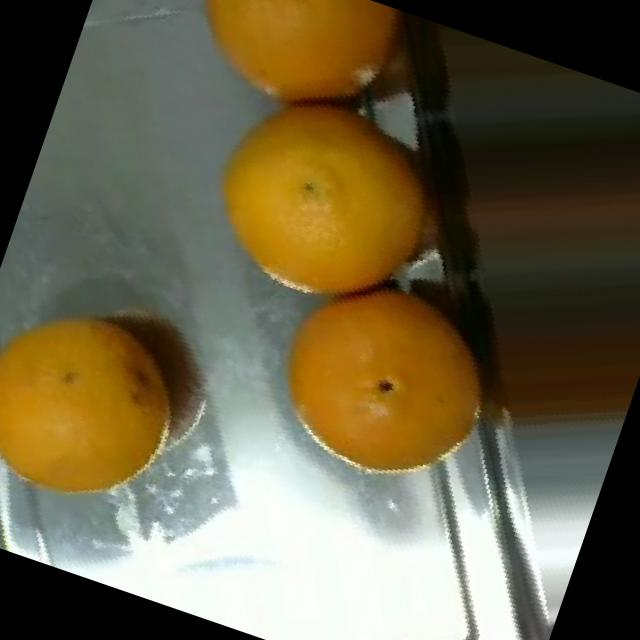Fruit: (0, 296, 230, 558), (298, 282, 536, 528)
